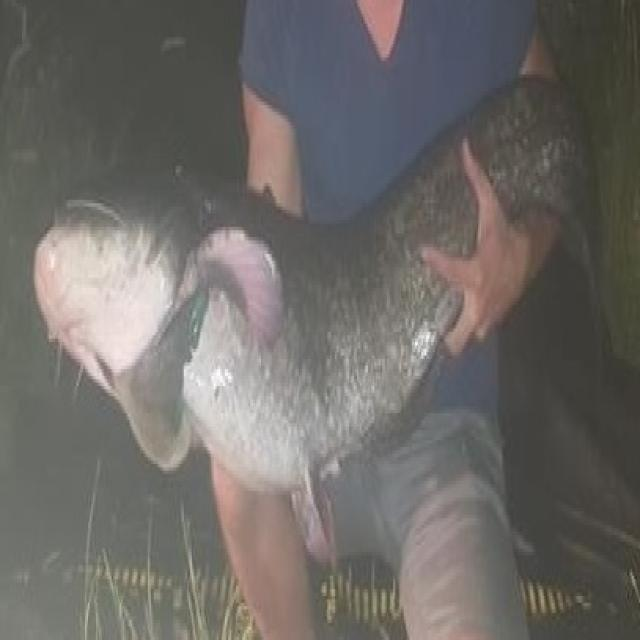Catfish: (31, 77, 618, 524)
